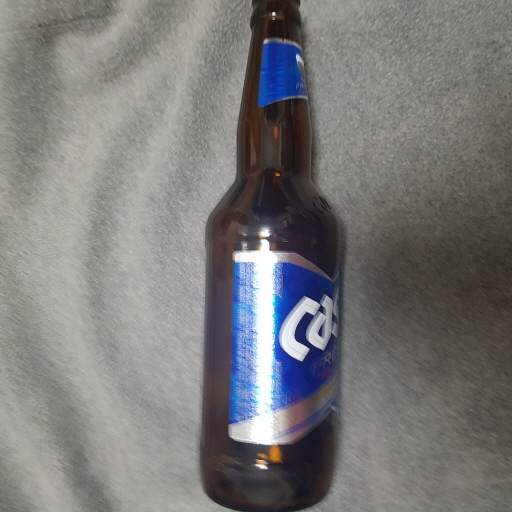Glass_1: (198, 1, 346, 512)
